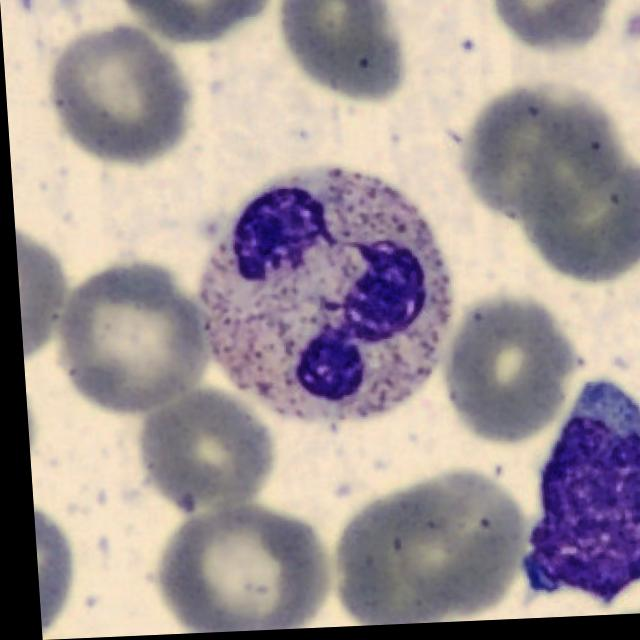Linfocito: (514, 385, 640, 606)
Neutrofilo segmentado: (194, 169, 448, 428)
